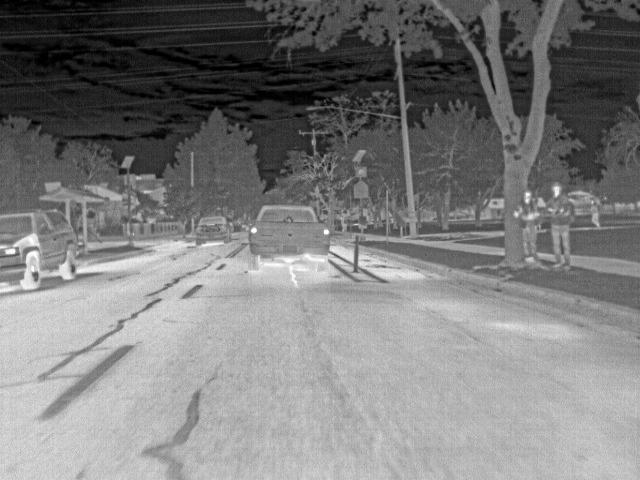car: (0, 209, 84, 293), (250, 203, 330, 269), (195, 216, 231, 246)
person: (547, 182, 573, 270), (513, 188, 540, 267), (588, 198, 601, 228), (339, 210, 348, 232)
